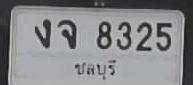2: (135, 21, 151, 50)
3: (116, 21, 131, 49)
5: (155, 22, 171, 50)
8: (96, 20, 111, 48)
A07: (34, 18, 50, 47)
A08: (57, 19, 76, 48)
CBI: (72, 56, 118, 82)
